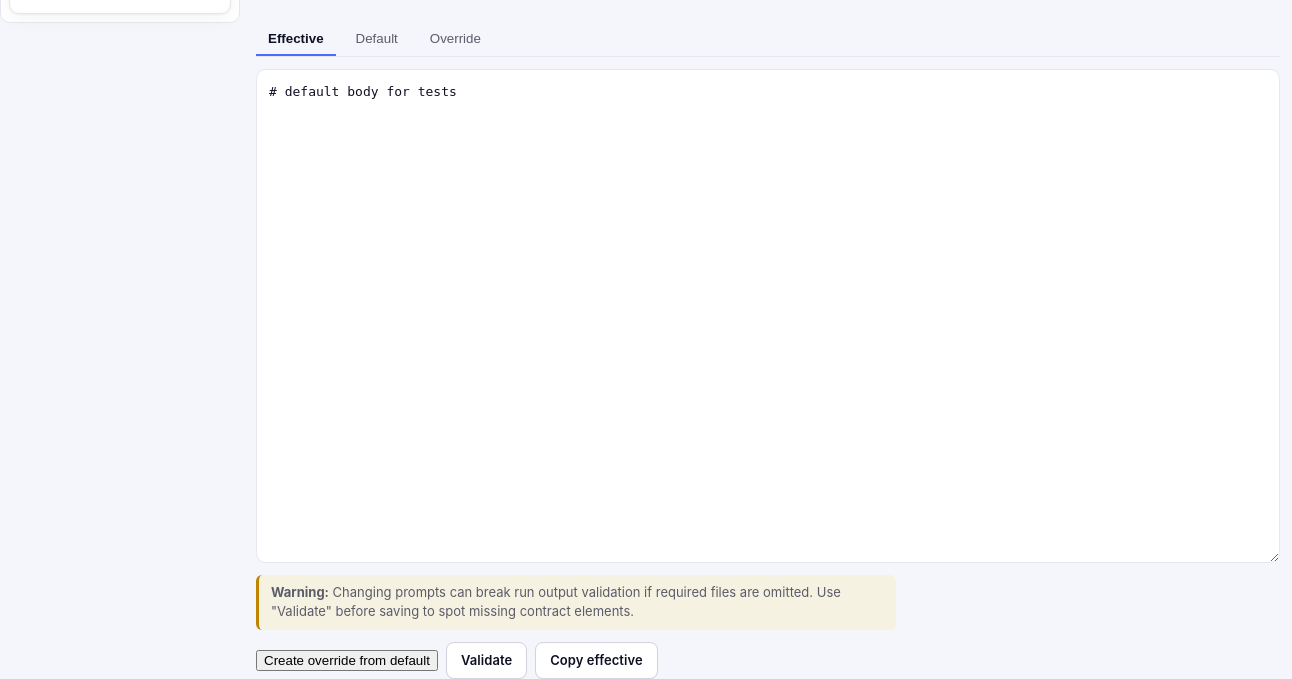
Scenario: PromptsPage › creates an override from the default and switches the source
The width and height of the screenshot is (1292, 679).
(page scrolled)
Click the button with test id "prompt-create-override". click: (347, 660)
box: [256,650,438,671]
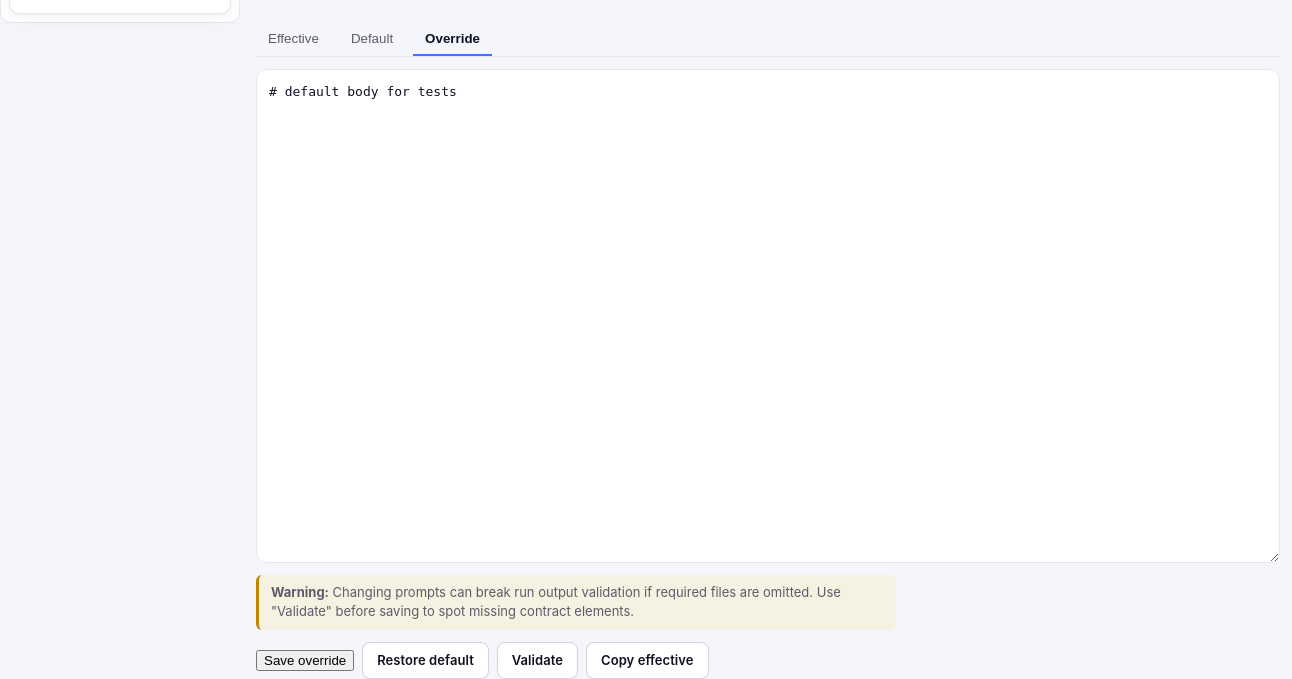
Check: the button with test id "prompt-save-override" is shown, box [256,650,354,671]
Check: the button with test id "prompt-restore-default" is shown, box [362,642,489,678]
